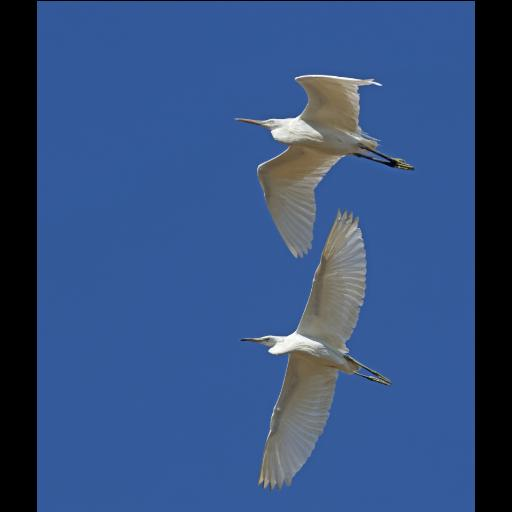chinese_egret: (237, 206, 393, 490), (233, 72, 417, 258)
